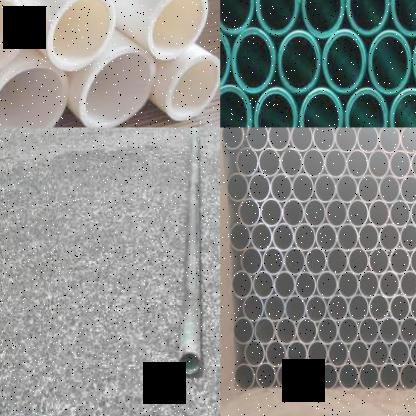pipe: (79, 48, 156, 127), (46, 0, 114, 70), (0, 59, 69, 127), (165, 54, 220, 119), (147, 0, 207, 59), (232, 27, 275, 94), (322, 30, 366, 94), (368, 30, 412, 94), (277, 30, 320, 92), (0, 0, 26, 75), (254, 86, 297, 127), (344, 88, 388, 128), (300, 88, 342, 128), (302, 0, 344, 38), (256, 0, 299, 35), (346, 0, 388, 35), (220, 84, 251, 127), (220, 0, 253, 35), (389, 88, 416, 128), (390, 0, 416, 35), (220, 28, 232, 90), (259, 197, 283, 227), (257, 147, 281, 177), (335, 173, 358, 204), (302, 147, 325, 178), (346, 148, 369, 179), (292, 172, 315, 203), (280, 147, 303, 178), (236, 146, 259, 177), (271, 222, 295, 251), (325, 198, 348, 228), (238, 197, 261, 227), (314, 173, 337, 203), (270, 172, 293, 202), (324, 148, 347, 178), (378, 174, 401, 204), (248, 172, 271, 202), (250, 222, 273, 251), (368, 199, 391, 228), (357, 174, 380, 203), (294, 222, 316, 252), (304, 198, 326, 228), (347, 198, 369, 228), (368, 149, 390, 179), (389, 149, 411, 179), (283, 247, 306, 275), (326, 247, 349, 275), (294, 271, 317, 299), (336, 223, 359, 251), (315, 223, 338, 251), (357, 223, 380, 251), (253, 317, 276, 345), (226, 173, 249, 201), (284, 294, 306, 323), (282, 198, 304, 227), (316, 270, 338, 299), (389, 199, 411, 228), (305, 295, 328, 322), (356, 127, 379, 154), (262, 247, 285, 274), (305, 247, 327, 275), (327, 294, 349, 322), (296, 317, 318, 345), (264, 294, 286, 322), (275, 317, 297, 345), (229, 222, 251, 250), (358, 270, 380, 298), (317, 317, 339, 345), (327, 340, 349, 368), (265, 340, 287, 368), (231, 270, 253, 298), (337, 317, 359, 345), (241, 247, 263, 275), (253, 270, 274, 299), (274, 270, 295, 299), (334, 127, 357, 153), (358, 362, 380, 389), (348, 340, 370, 367), (358, 317, 380, 344), (337, 271, 359, 298), (244, 340, 266, 367), (286, 340, 307, 368), (348, 247, 369, 275), (307, 340, 328, 368), (389, 247, 410, 275), (379, 270, 400, 298), (369, 247, 390, 275), (243, 294, 264, 322), (379, 223, 400, 251), (267, 127, 291, 151), (378, 127, 400, 153), (220, 127, 246, 149), (338, 362, 359, 389), (318, 362, 339, 389), (276, 362, 297, 389), (379, 362, 400, 389), (348, 294, 369, 321), (389, 340, 410, 367), (389, 294, 410, 321), (379, 317, 400, 344), (369, 340, 390, 367), (234, 363, 255, 390), (369, 294, 390, 321), (233, 317, 254, 344), (245, 127, 268, 151), (312, 127, 334, 152), (291, 127, 313, 152), (297, 363, 318, 389), (255, 362, 276, 388), (398, 174, 416, 203), (179, 352, 200, 376), (398, 269, 416, 297), (398, 316, 416, 343), (399, 361, 416, 389), (399, 222, 416, 250), (399, 127, 416, 153), (409, 339, 416, 367), (409, 247, 416, 274), (409, 294, 416, 321), (410, 149, 416, 178), (410, 199, 416, 227)
